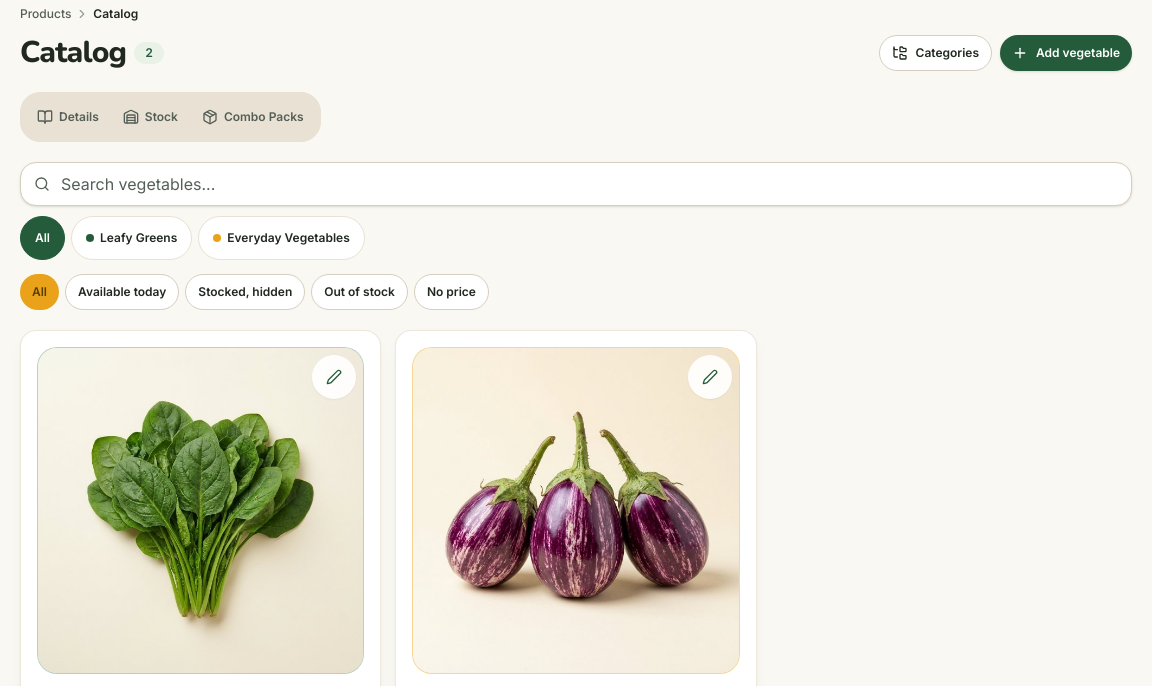
Test: Visual Redesign v2 — Helpers, Shared Primitives & Filters › filters Staff Catalog cleanly by All, Available today, Out of stock, and No price
This screenshot has width=1152, height=686.
Click the button "No price" at x=451, y=292, box [414,274,489,310]
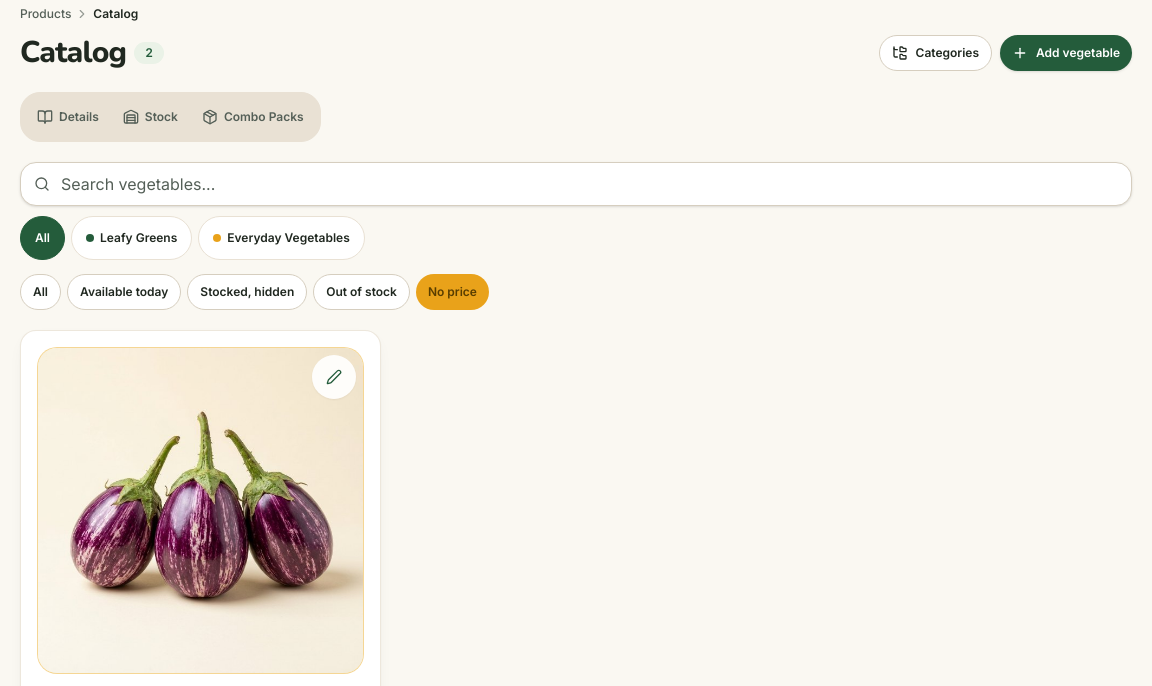
Click the button "Available today" at x=124, y=292, box [67,274,181,310]
(page scrolled)
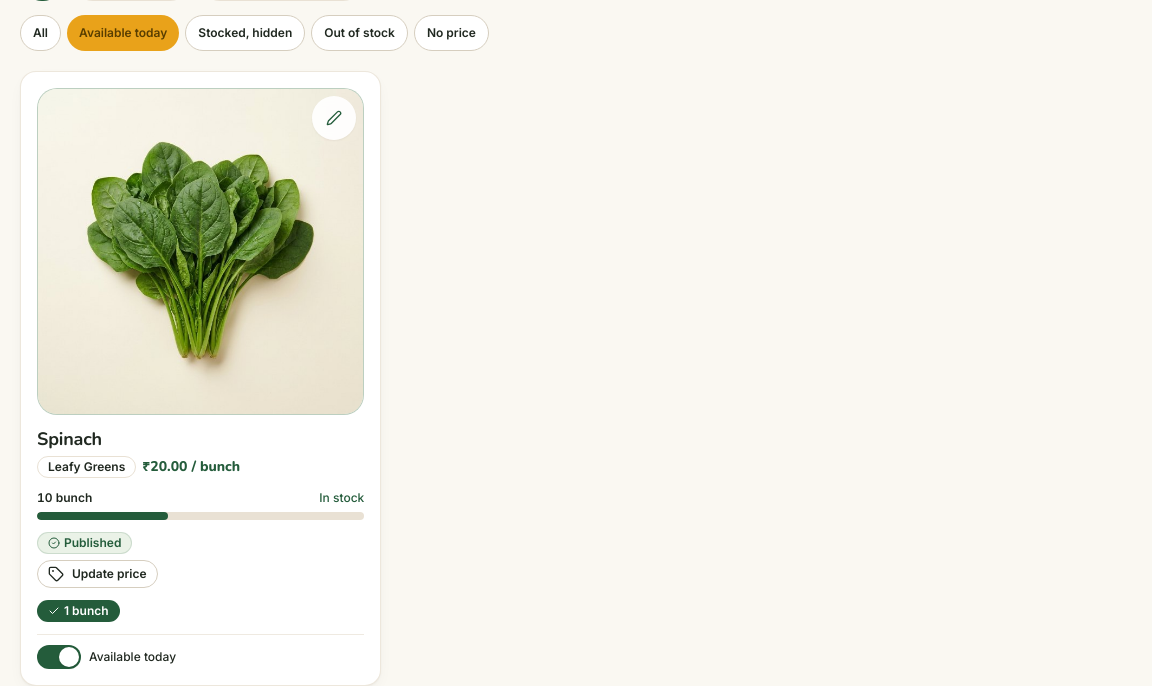
Check: the heading "Spinach" is shown, box [37,427,102,452]
